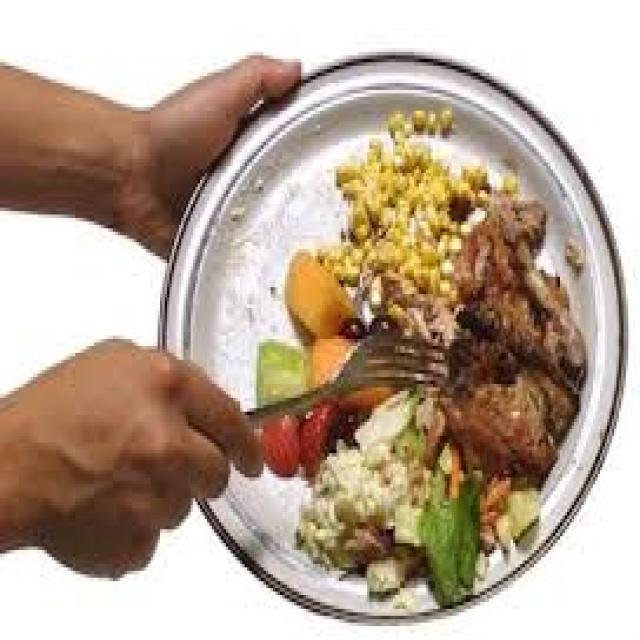Wet: (143, 40, 442, 597), (444, 201, 590, 479)
